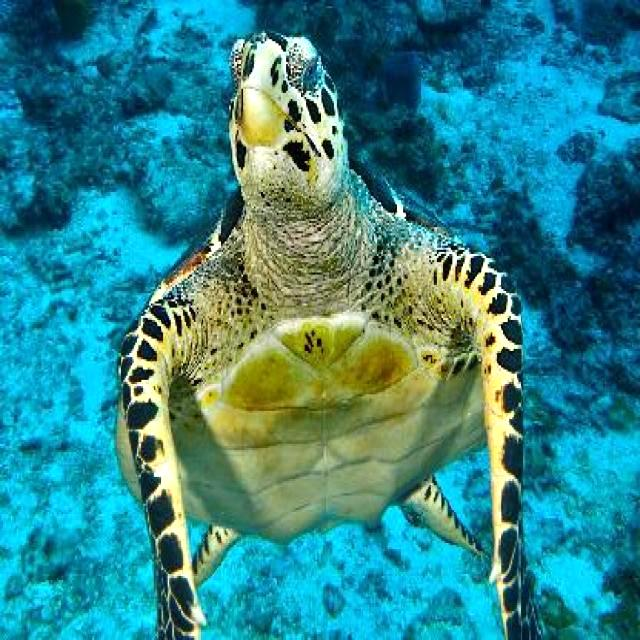Sea turtle: (100, 24, 560, 640)
